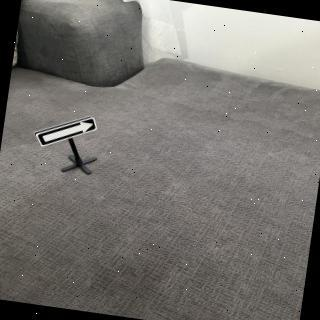sign_oneway_right: (33, 108, 101, 156)
